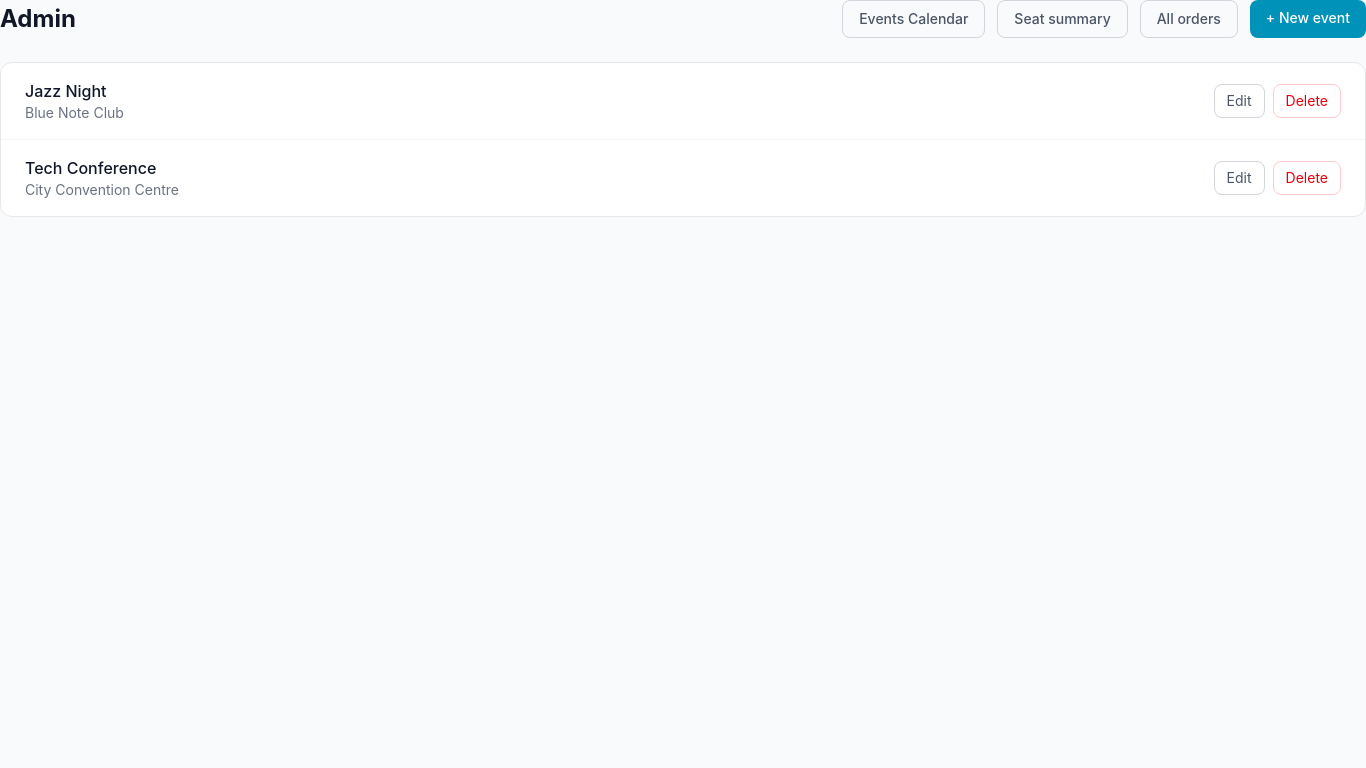
Scenario: Cancel in confirmation dialog closes it without deleting
expect the text "Jazz Night" is shown: met, box top-left (25, 81), bottom-right (107, 101)
What coordinates should you click on to do the following:
click the button "Delete" in the row of "Jazz Night"
I would click on:
 (1307, 101)
Its box is top-left (1273, 84), bottom-right (1341, 118).
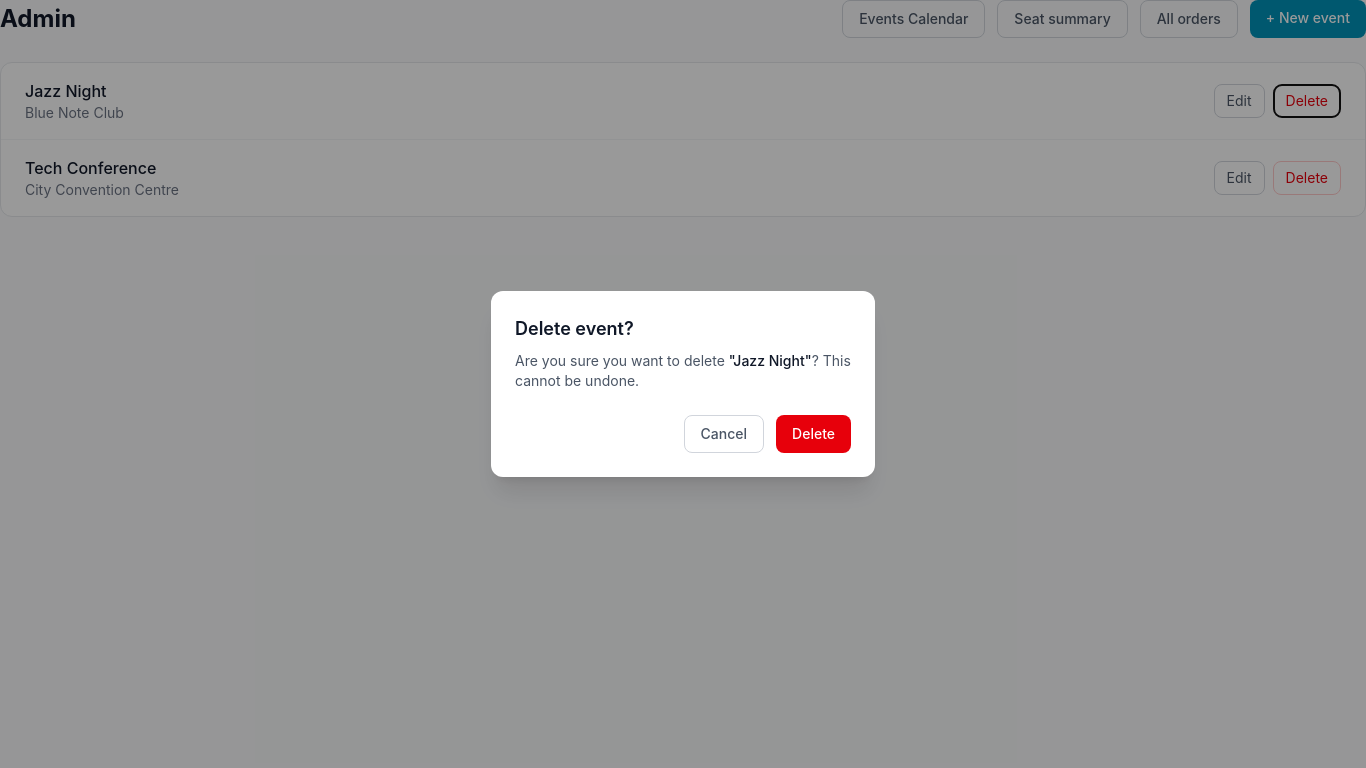
What coordinates should you click on to do the following:
click the button "Cancel"
I would click on:
 (724, 434)
Its box is top-left (684, 415), bottom-right (764, 453).
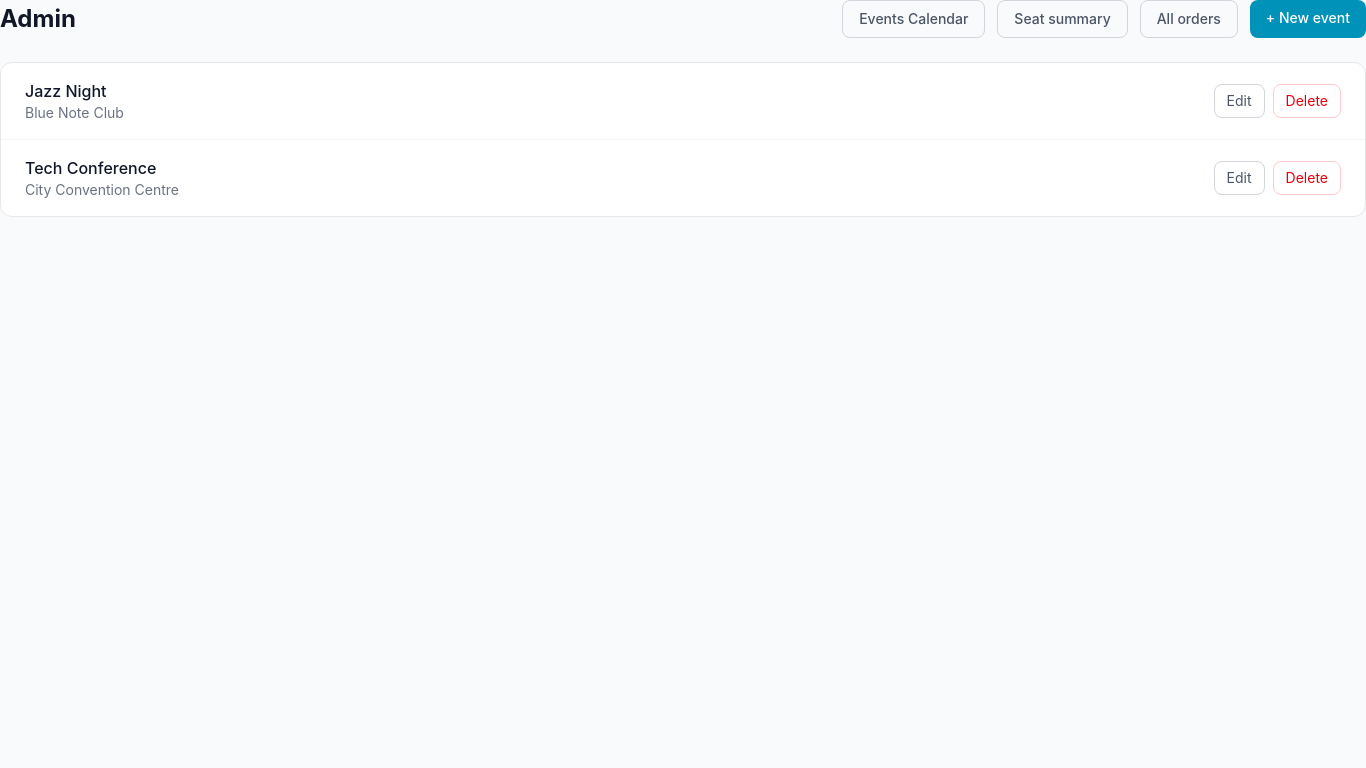
expect the text "Jazz Night" is shown: met, box top-left (25, 81), bottom-right (107, 101)
expect the dialog is gone: met
